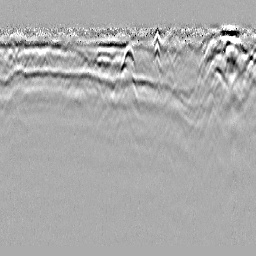cavity: (120, 45, 137, 70)
